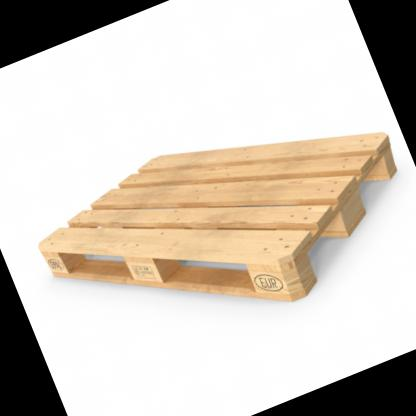BoxFace: (37, 130, 403, 307)
